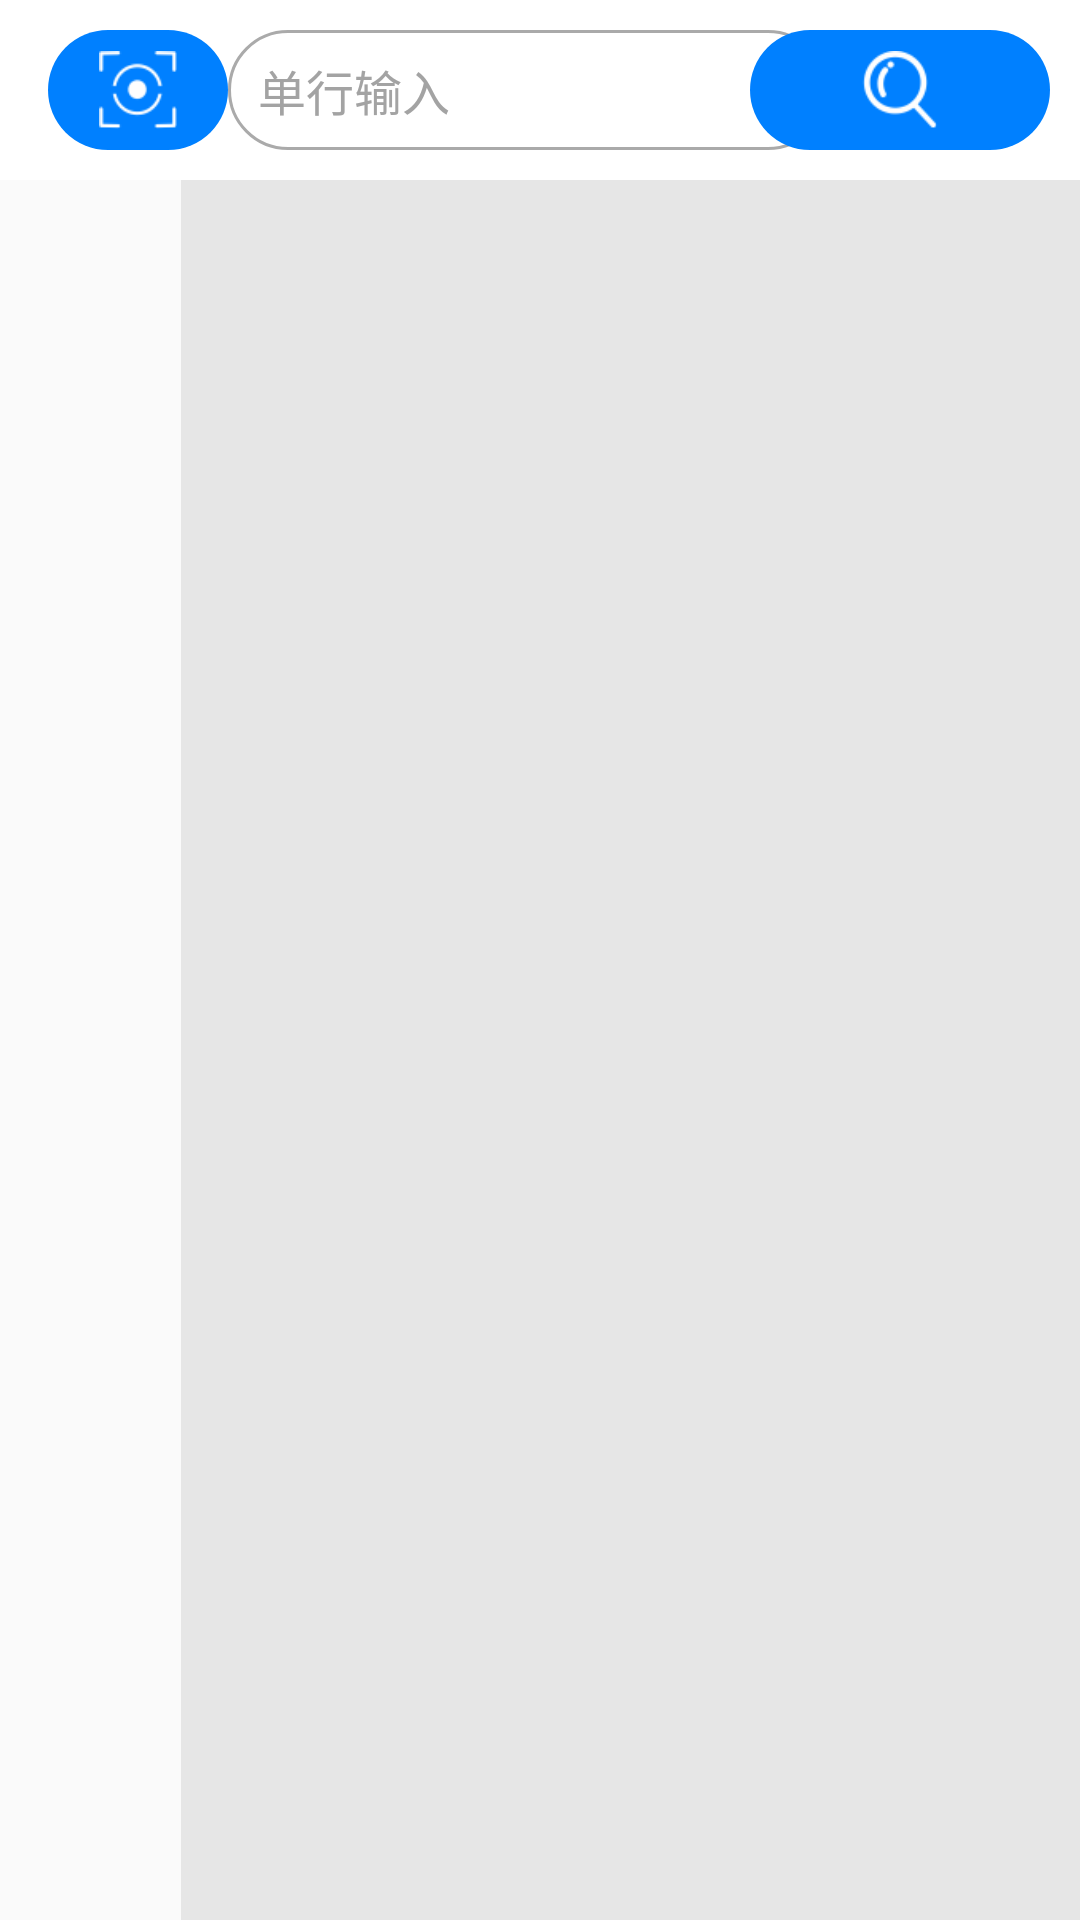

Where icons sit on this 1080*1920 app screen, as (x1, y1, x2, y2):
camera: (48, 30, 228, 150)
find: (750, 30, 1050, 150)
